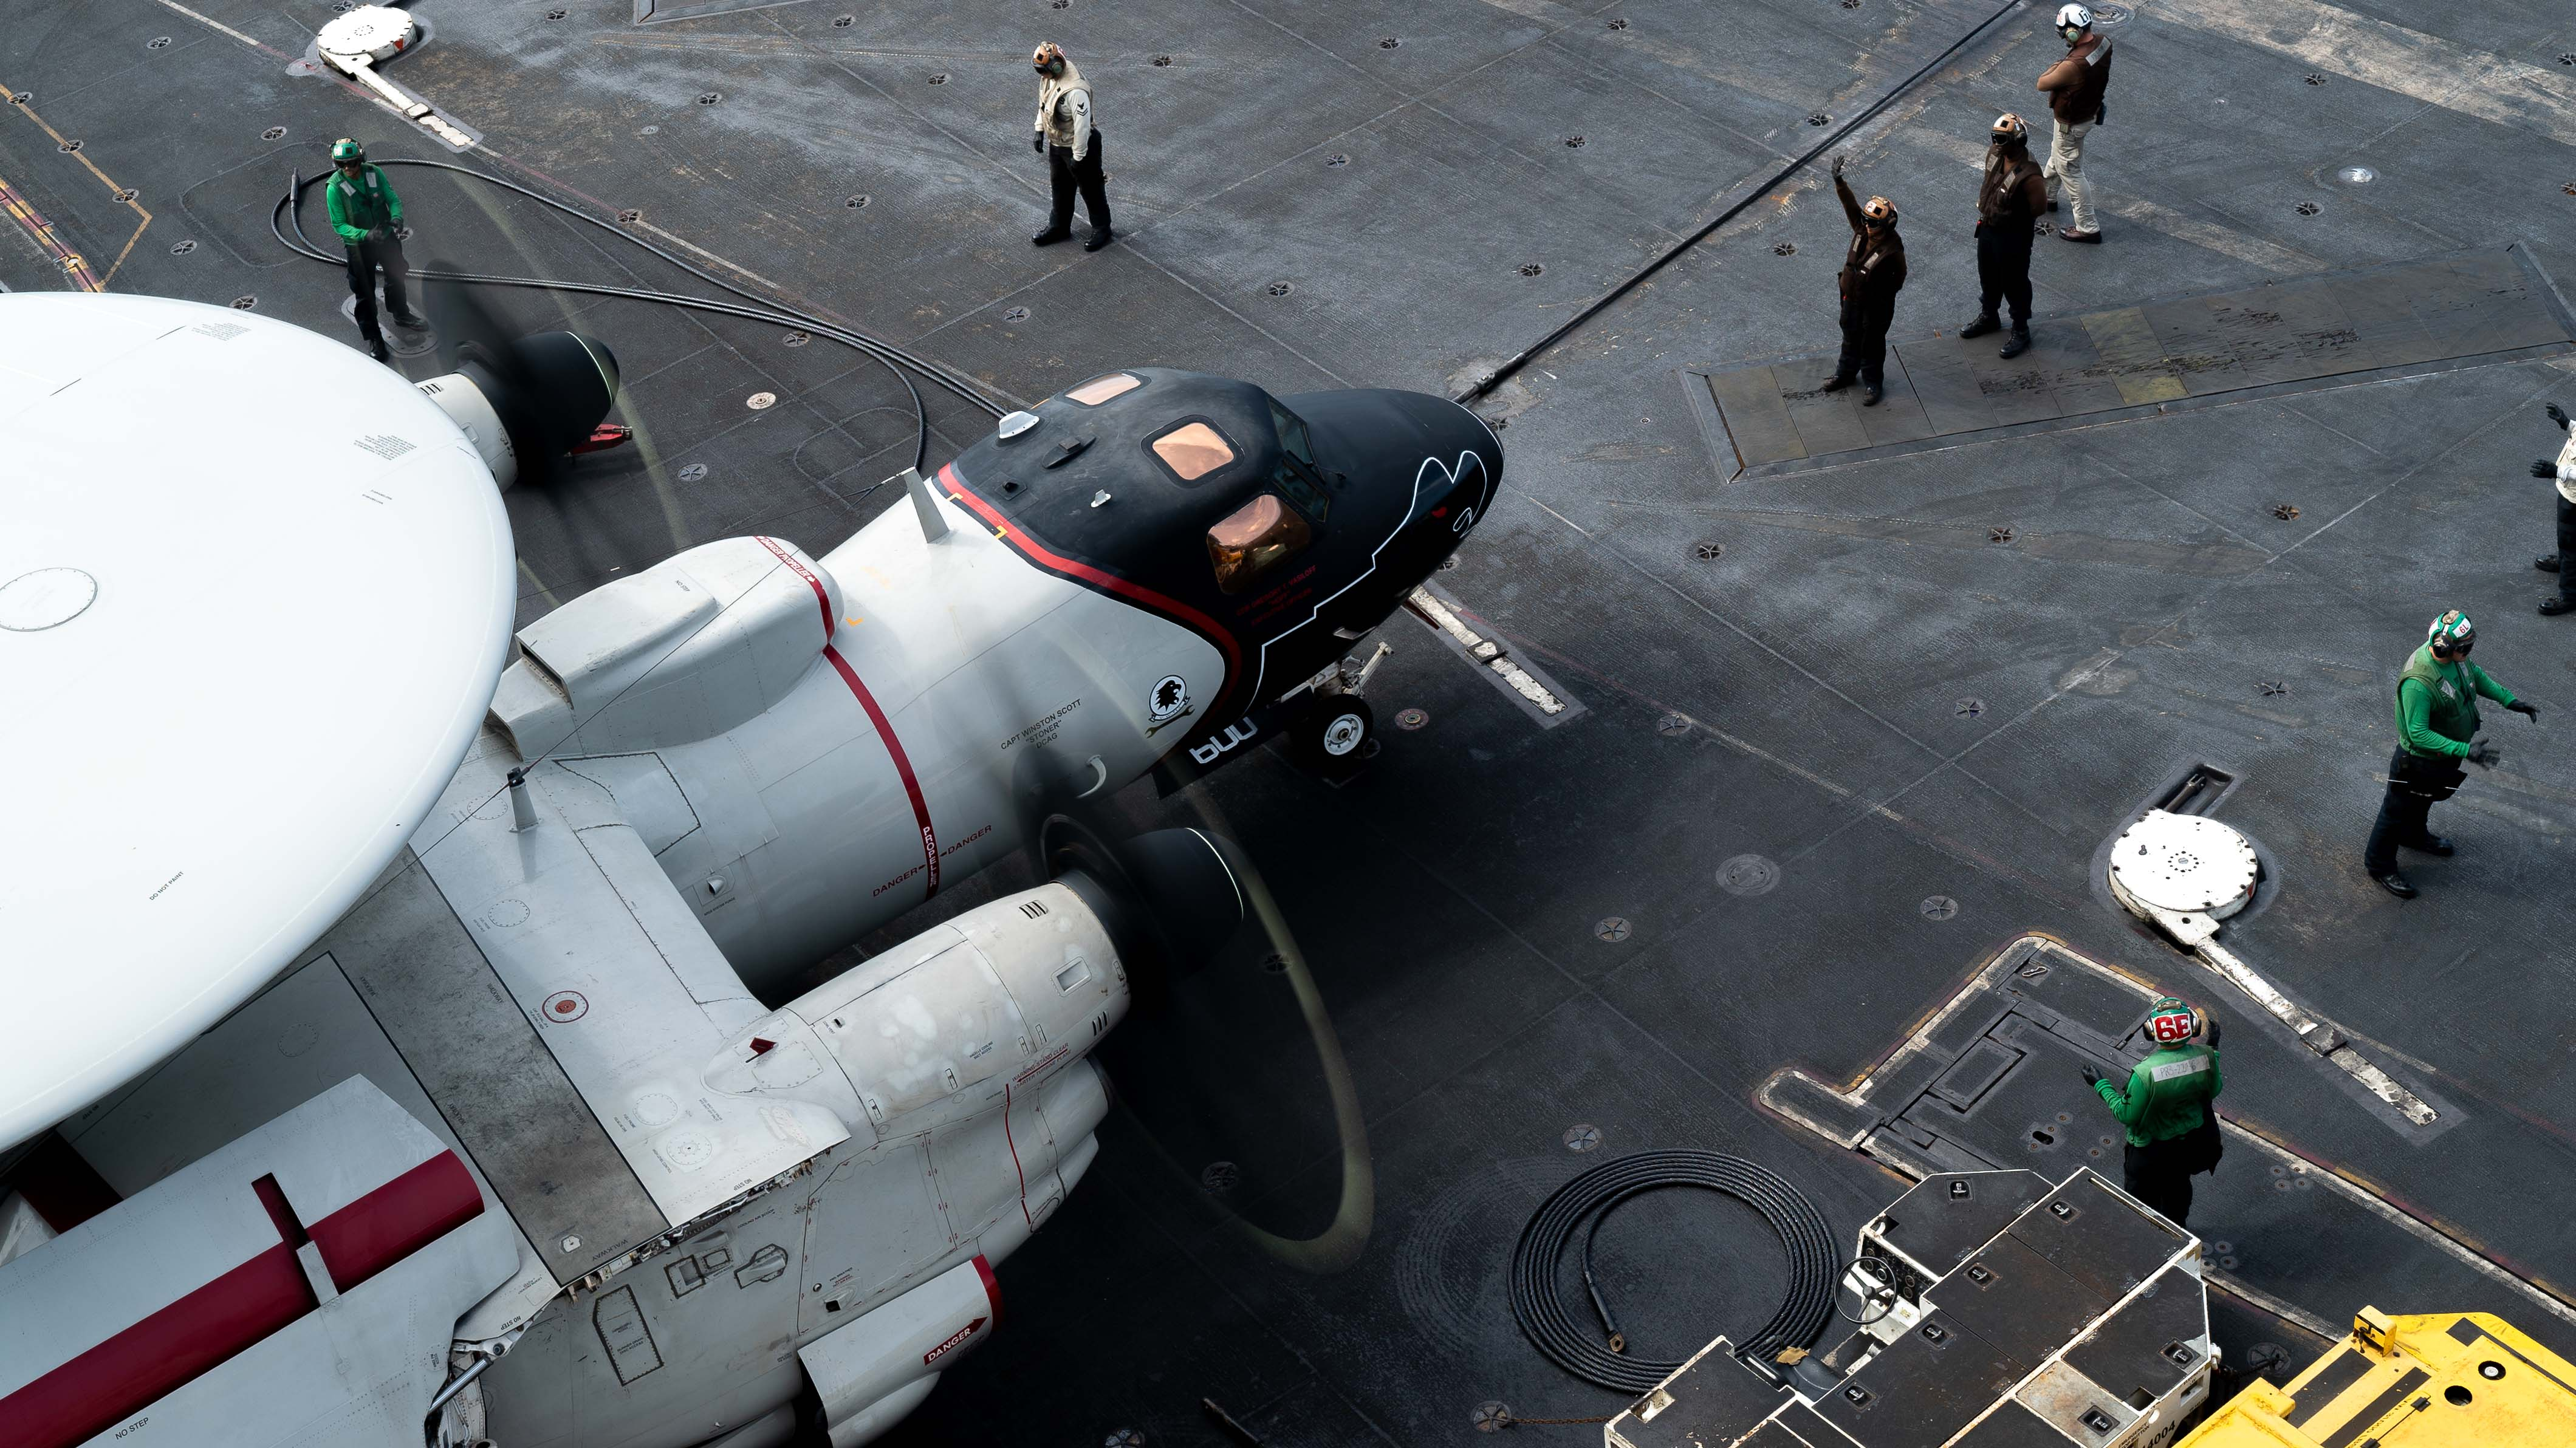E2: (0, 108, 1506, 1448)
